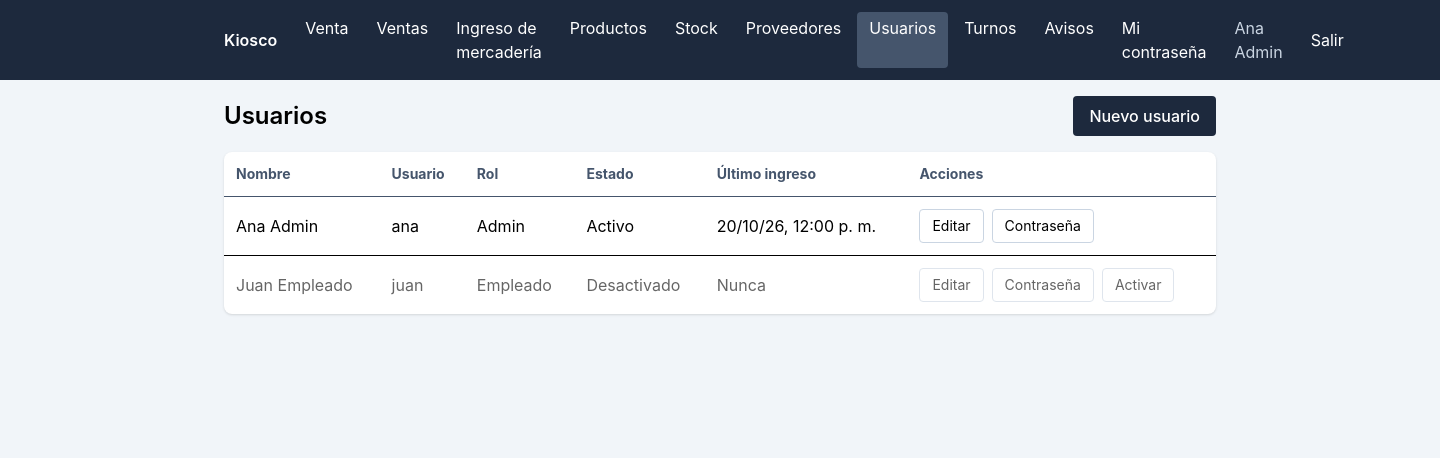
Scenario: pantalla de usuarios › muestra el error de último admin al cambiar el rol
Click the button "Editar" in the row of "Activo" at (952, 226), box [919,209,984,243]
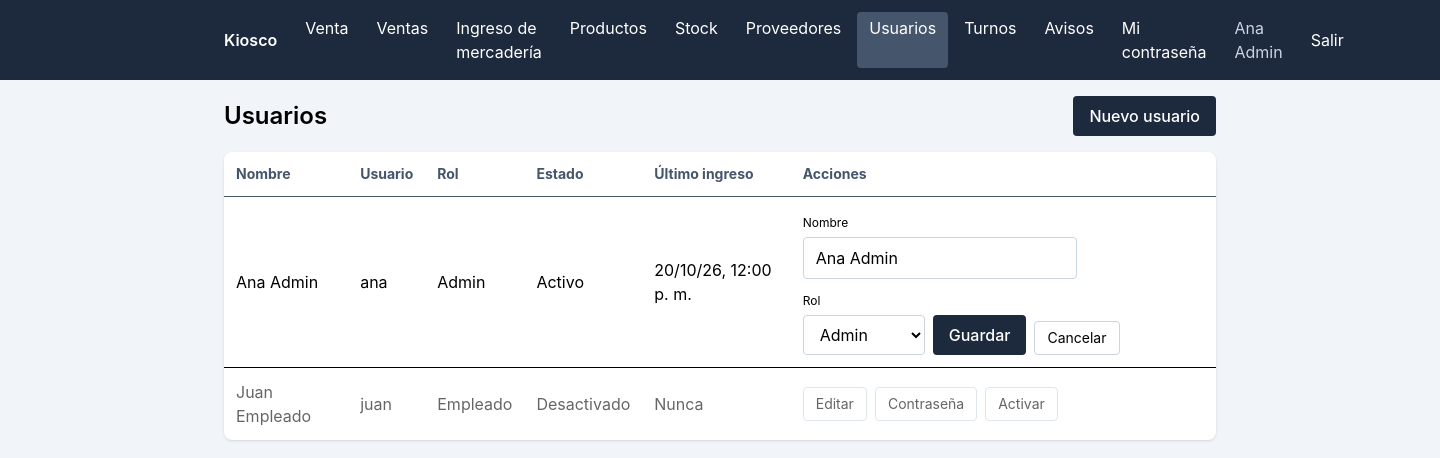
Select "Empleado" in the dropdown labelled "Rol" at (864, 335), box [803,315,925,355]
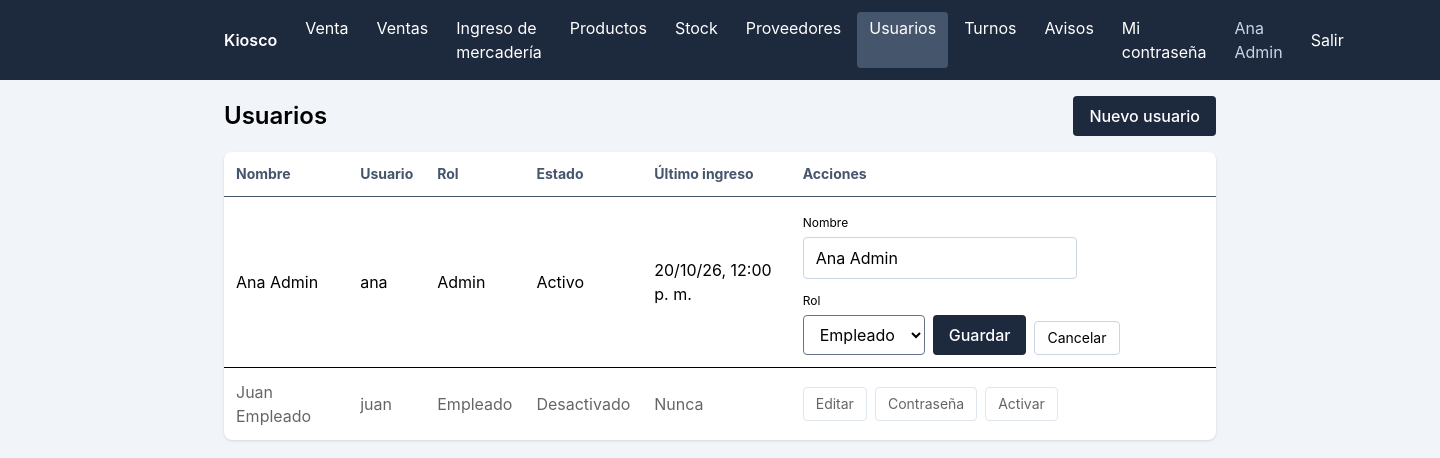
Click the button "Guardar" at (980, 335), box [933,315,1026,355]
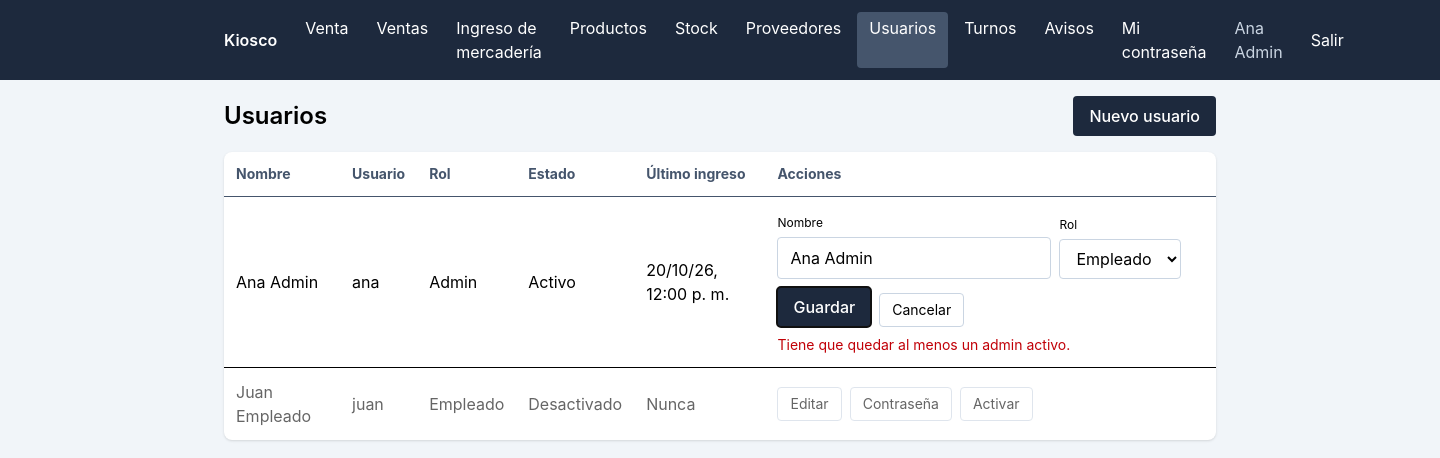
Now the message reads "Tiene que quedar al menos un admin activo.", box [778,336,1070,353]
